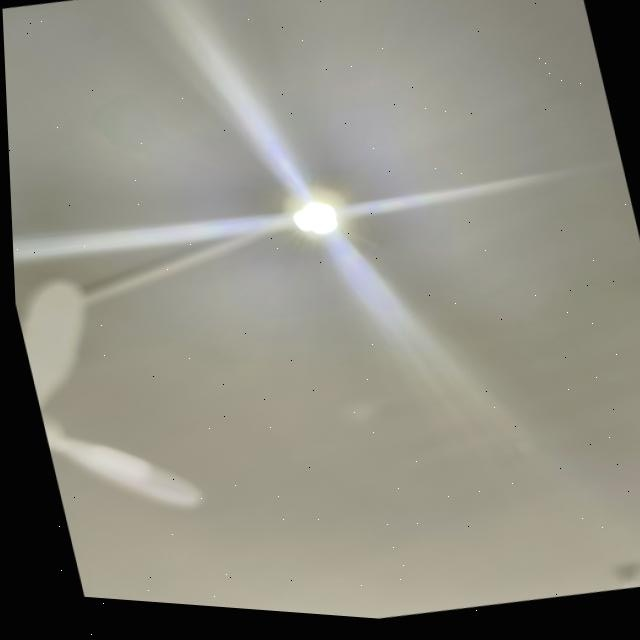fluorescent tube: (255, 147, 395, 278)
